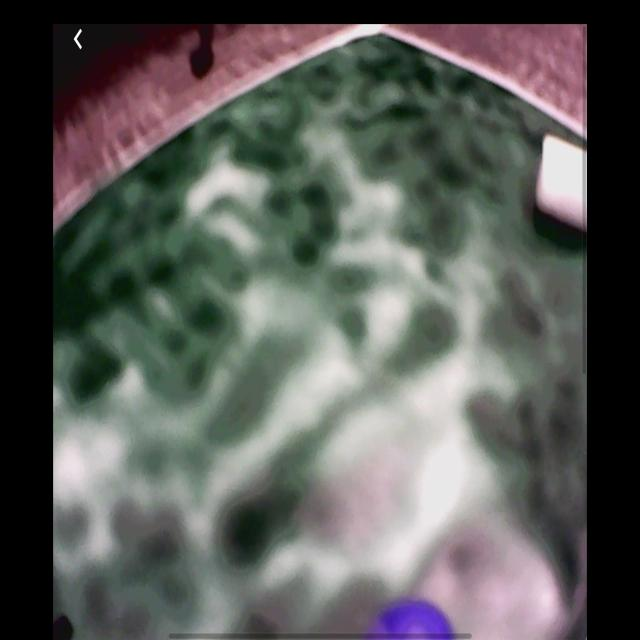ball: (372, 599, 456, 639)
